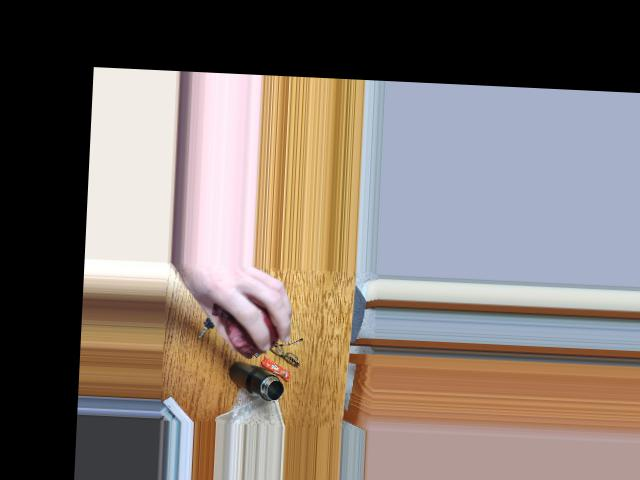onion: (226, 301, 279, 351)
